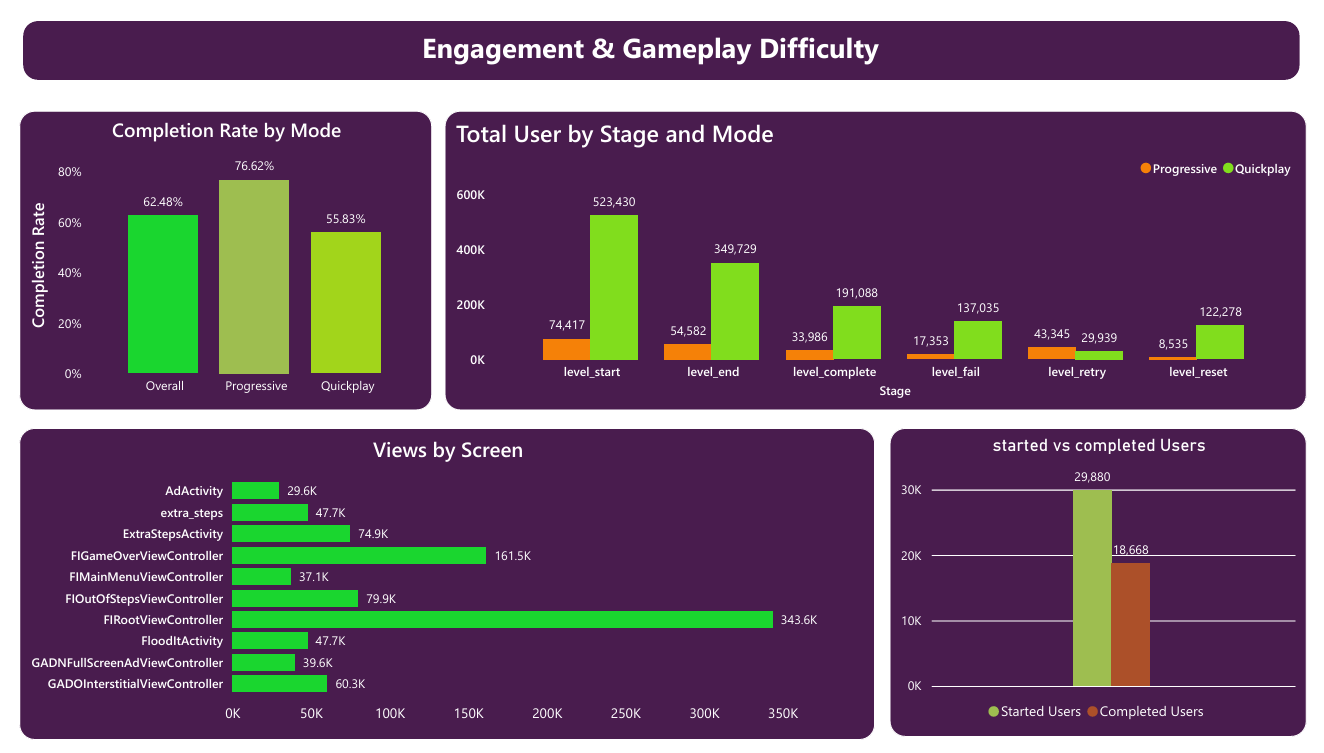

The page's visual inventory and layout, read from the dashboard file:
{"tool":"powerbi","page":{"name":"Engagement & Gameplay","canvas":[1280,720],"ordinal":1},"visuals":[{"type":"clusteredColumnChart","fields":{"Category":["CompletionByMode.Mode"],"Y":["Sum(CompletionByMode.CompletionRatePct)"]},"box":[12.8,100,401.2,290.7],"z":0},{"type":"clusteredColumnChart","fields":{"Category":["LevelFunnel.Stage"],"Series":["LevelFunnel.Mode"],"Y":["Sum(LevelFunnel.UserCount)"]},"box":[426.2,100,836.2,291.2],"z":1000},{"type":"shape","box":[11.3,6.8,1250.5,69],"z":1500},{"type":"clusteredBarChart","title":"Views by Screen","fields":{"Category":["ScreenActivity.Screen"],"Y":["Sum(ScreenActivity.Views)"]},"box":[12.5,407.5,831.2,303.8],"z":3000},{"type":"textbox","box":[399.1,14.7,480.5,54.3],"z":5500},{"type":"clusteredColumnChart","title":"started vs completed Users","fields":{"Y":["Sum(CompletionByMode.StartedUsers)","Sum(CompletionByMode.CompletedUsers)"]},"box":[857.5,407.5,405,300],"z":5501},{"type":"shape","box":[822,437.6,12.4,240.8],"z":5502}]}

Visuals, with their boxes in screenshot pixels (x1, y1, x2, y2), scaled from the page's 1280x720 canvas onto the 1324x753 screenshot:
clusteredColumnChart - CompletionByMode.Mode x Sum(CompletionByMode.CompletionRatePct): box(13, 105, 428, 409)
clusteredColumnChart - LevelFunnel.Stage x LevelFunnel.Mode: box(441, 105, 1306, 409)
shape: box(12, 7, 1305, 79)
"Views by Screen" clusteredBarChart: box(13, 426, 873, 744)
textbox: box(413, 15, 910, 72)
"started vs completed Users" clusteredColumnChart: box(887, 426, 1306, 740)
shape: box(850, 458, 863, 709)
